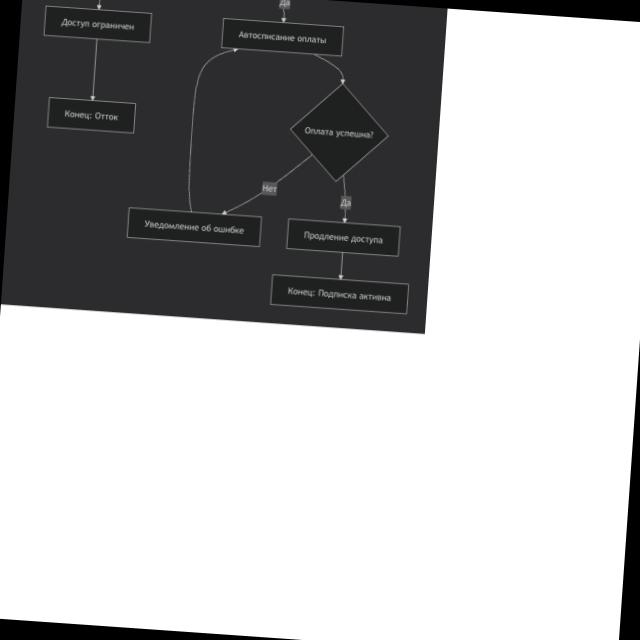arrow: (184, 45, 239, 215), (221, 147, 313, 220), (312, 54, 347, 85), (90, 37, 100, 100), (338, 175, 351, 222), (337, 251, 346, 280)
diamond: (292, 85, 387, 180)
rectangle: (271, 275, 408, 314), (128, 208, 261, 247), (221, 18, 344, 55), (287, 219, 400, 257), (44, 6, 151, 43), (47, 98, 135, 133)
text_region: (262, 182, 276, 194), (340, 198, 350, 208), (279, 0, 290, 9)
